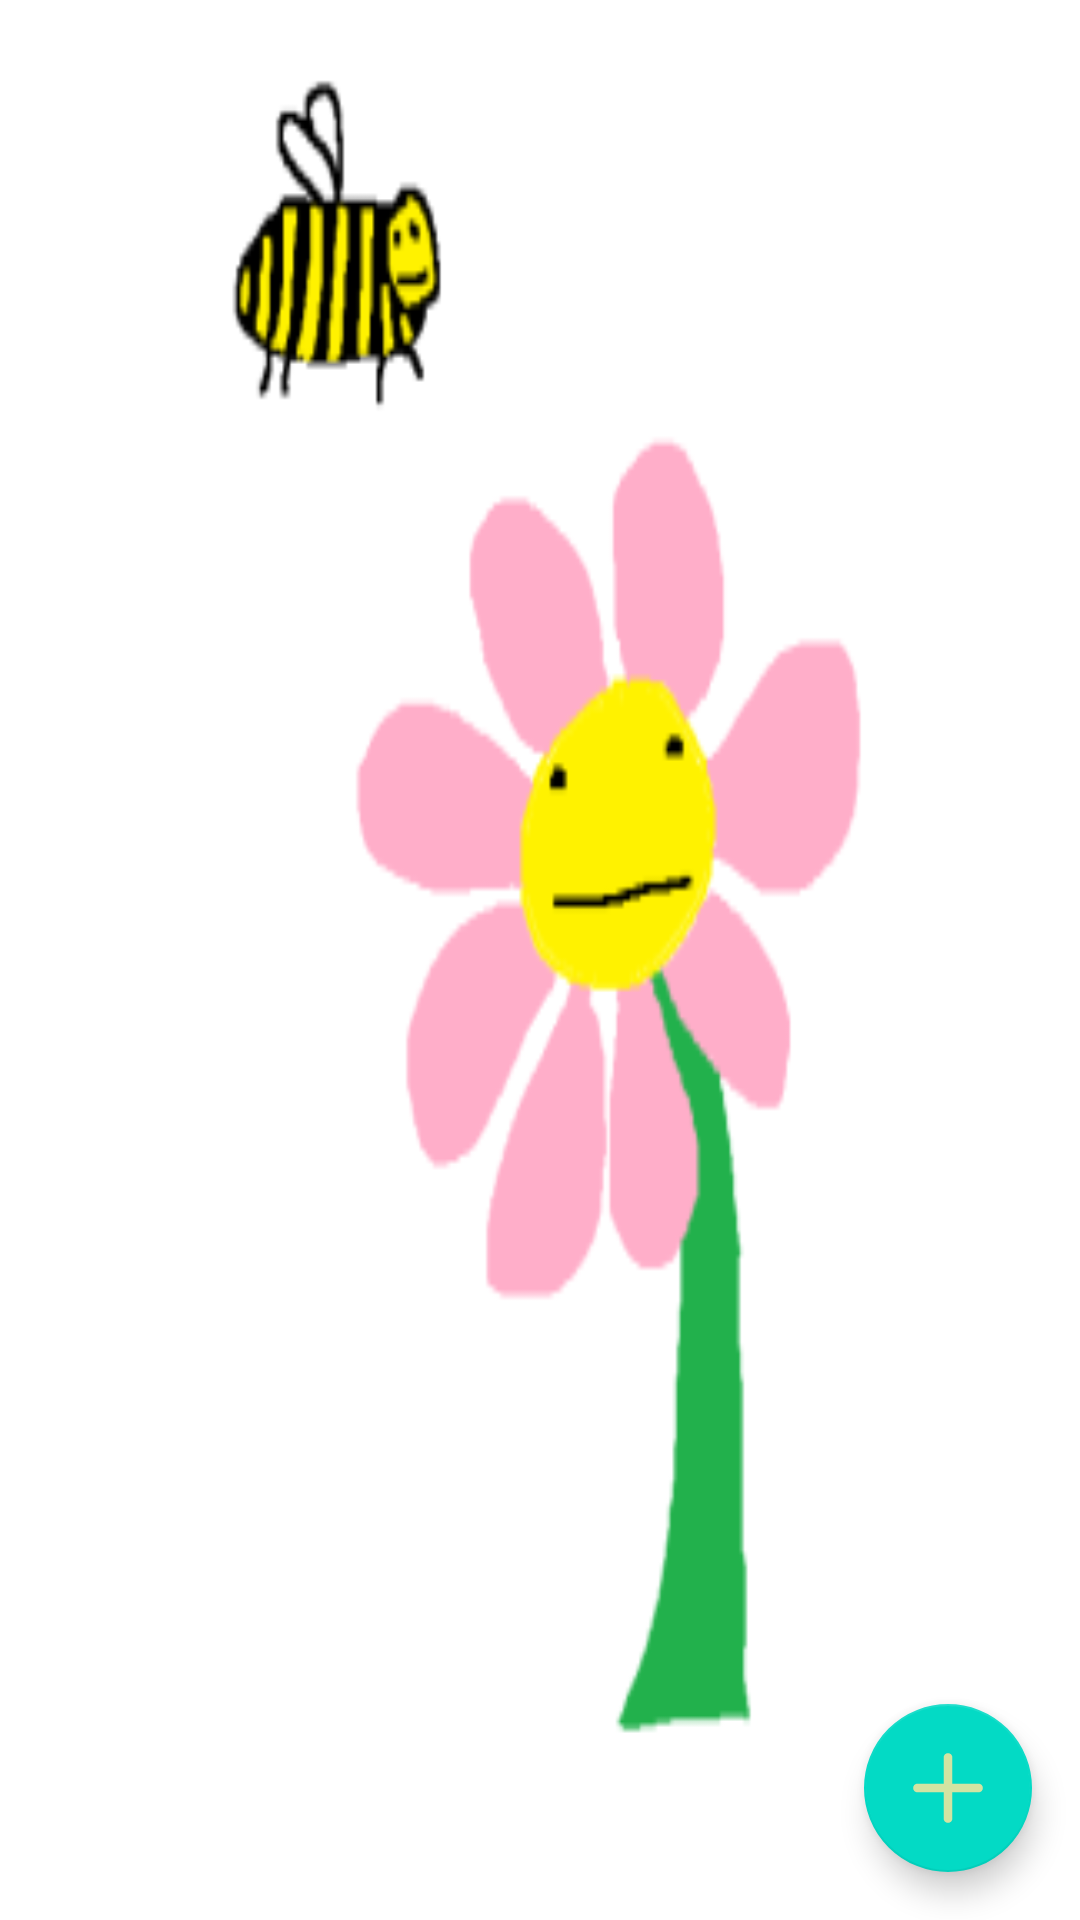

Locate icon controls on the screen. Image size 1080w x 1920h, boxes as [left=x1, top=y1, right=x2, bottom=y2].
add item: [left=864, top=1704, right=1032, bottom=1872]
